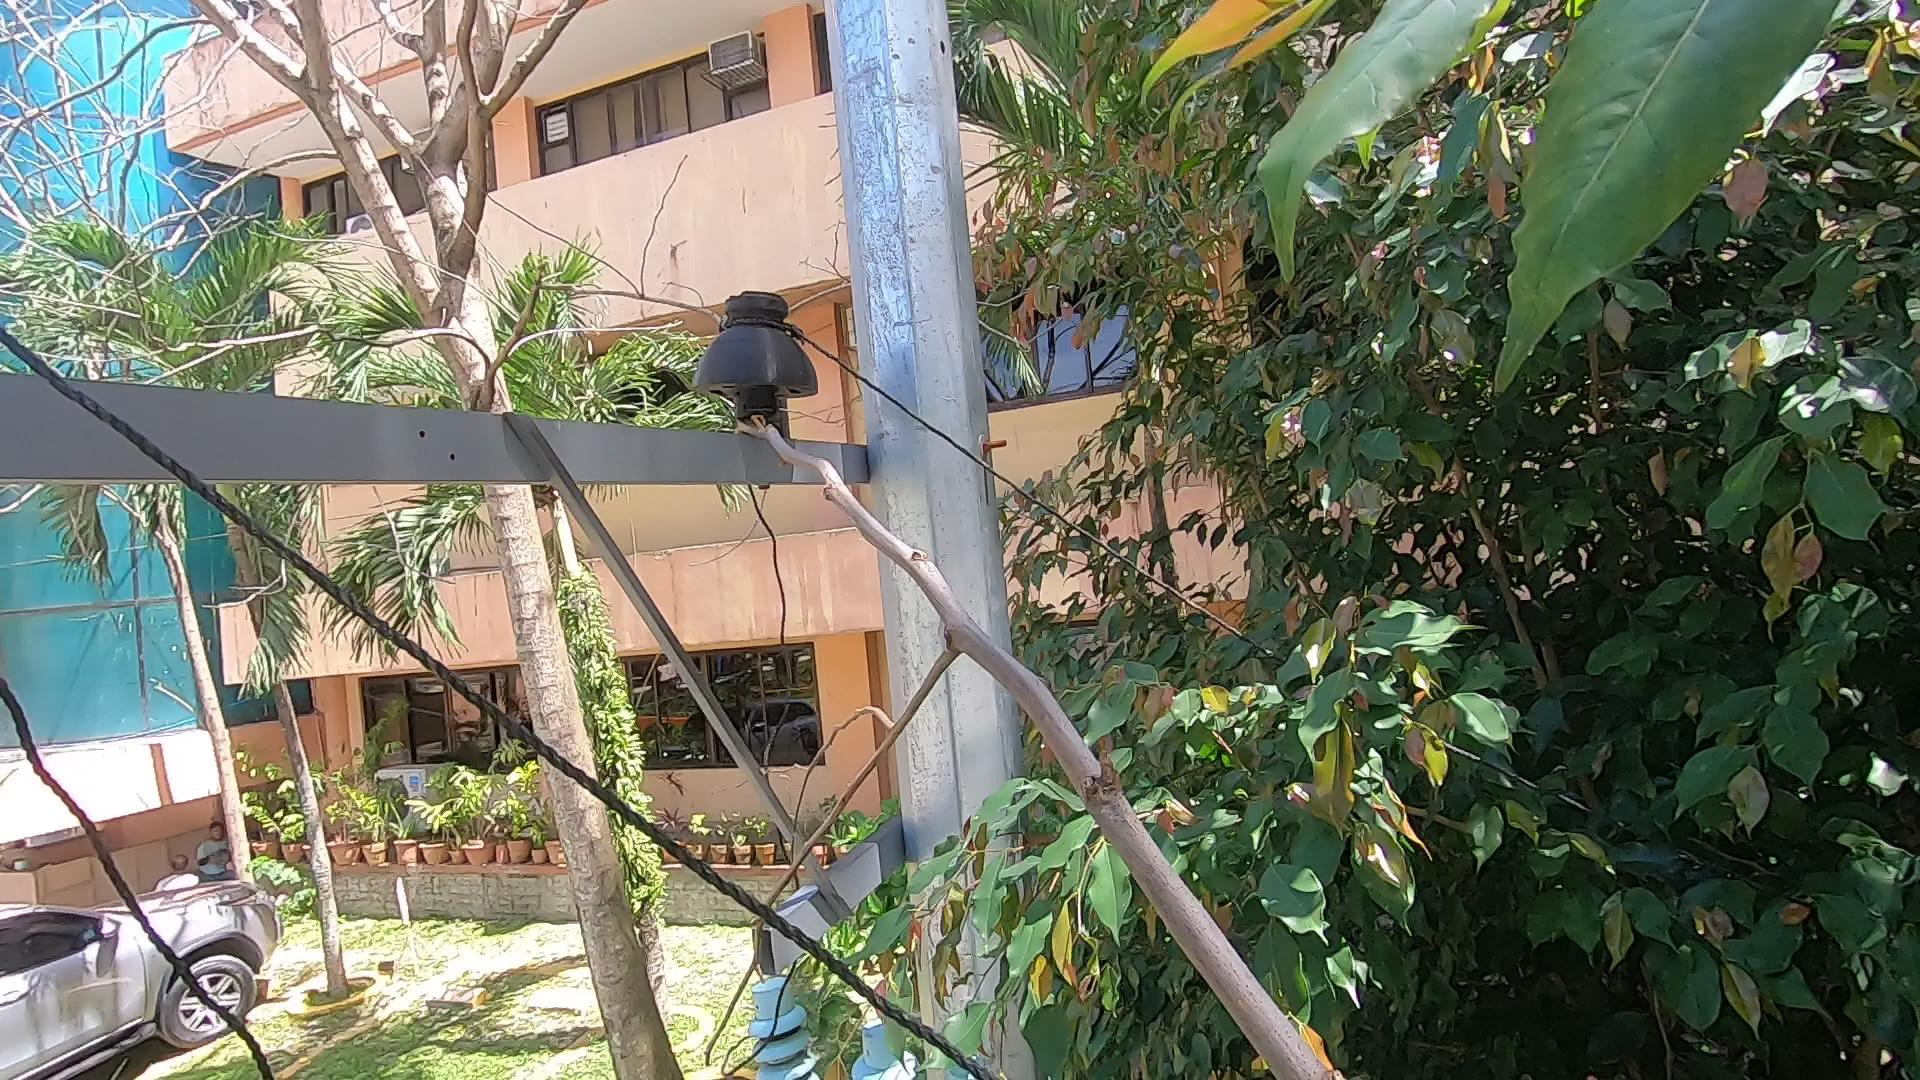branch with leaves: (851, 795, 1149, 1080)
tree branch: (615, 290, 1348, 1080)
